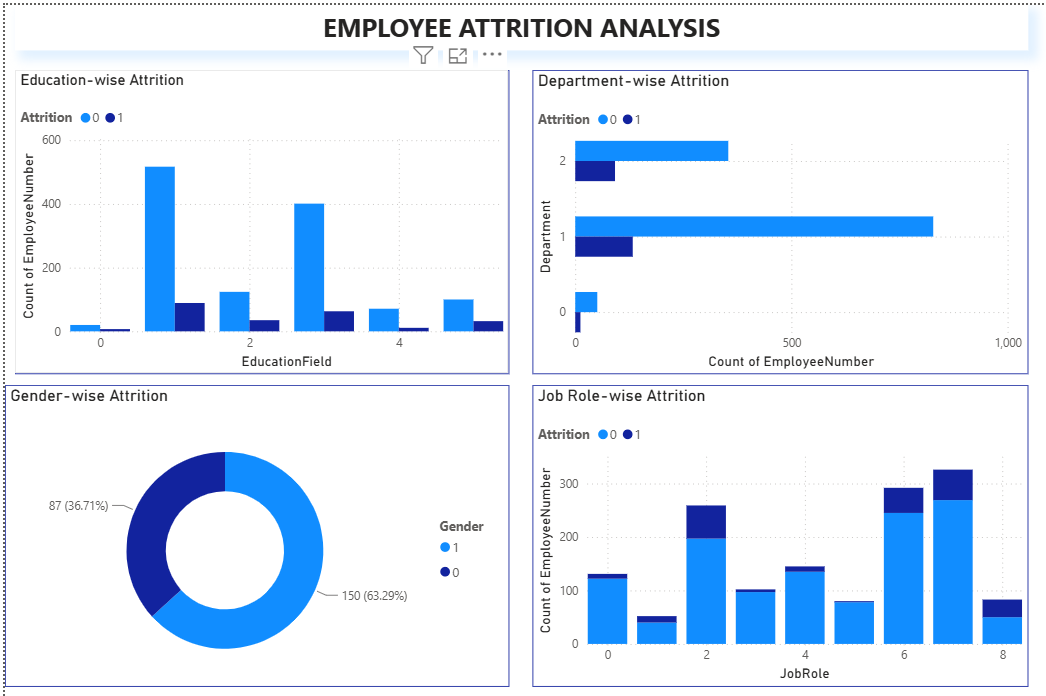

What the dashboard file says about the page in this screenshot:
{"tool":"powerbi","page":{"name":"Page 2","canvas":[1280,720],"ordinal":1},"visuals":[{"type":"textbox","box":[10,0,1052.5,47.5],"z":0},{"type":"clusteredColumnChart","title":"Education-wise Attrition","fields":{"Category":["employee_turnover_cleaned.EducationField"],"Y":["CountNonNull(employee_turnover_cleaned.EmployeeNumber)"],"Series":["employee_turnover_cleaned.Attrition"]},"box":[10,67.5,513.8,316.2],"z":1000},{"type":"donutChart","title":"Gender-wise Attrition","fields":{"Category":["employee_turnover_cleaned.Gender"],"Y":["CountNonNull(employee_turnover_cleaned.EmployeeNumber)"]},"box":[0,395,523.8,313.8],"z":2000},{"type":"clusteredBarChart","title":"Department-wise Attrition","fields":{"Category":["employee_turnover_cleaned.Department"],"Y":["CountNonNull(employee_turnover_cleaned.EmployeeNumber)"],"Series":["employee_turnover_cleaned.Attrition"]},"box":[547.5,67.5,515,316.2],"z":3000},{"type":"columnChart","title":"Job Role-wise Attrition","fields":{"Category":["employee_turnover_cleaned.JobRole"],"Y":["CountNonNull(employee_turnover_cleaned.EmployeeNumber)"],"Series":["employee_turnover_cleaned.Attrition"]},"box":[547.5,395,515,313.8],"z":4000}]}

Visuals, with their boxes on the page's 1280x720 design canvas (x1, y1, x2, y2). These are canvas units, not pixel positions in the 1046x696 screenshot, which may show the page scaled, cropped or inside an application window:
textbox: detection(10, 0, 1062, 48)
"Education-wise Attrition" clusteredColumnChart: detection(10, 68, 524, 384)
"Gender-wise Attrition" donutChart: detection(0, 395, 524, 709)
"Department-wise Attrition" clusteredBarChart: detection(548, 68, 1062, 384)
"Job Role-wise Attrition" columnChart: detection(548, 395, 1062, 709)
